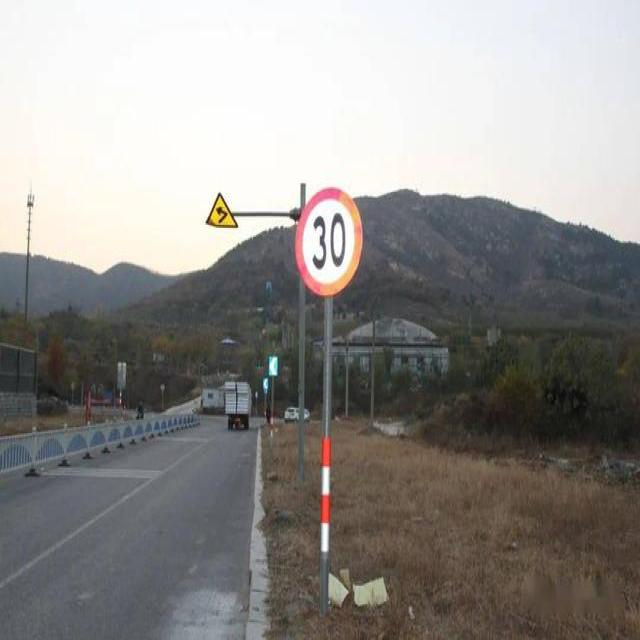speed limit 30: (294, 186, 364, 298)
